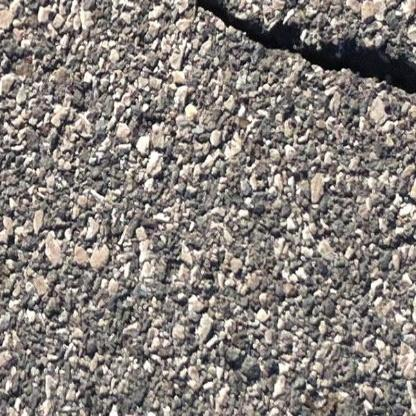Cracks: (167, 0, 416, 99)
